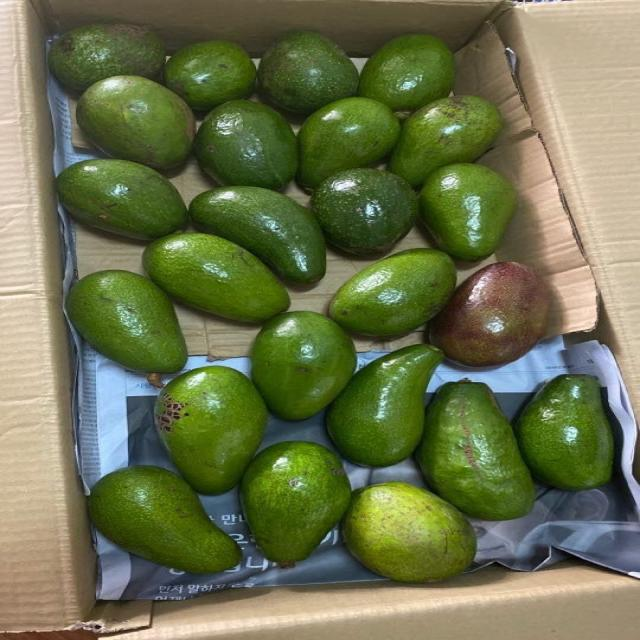avocado: (416, 380, 535, 520), (88, 466, 241, 573), (155, 366, 267, 494), (326, 344, 443, 466), (241, 441, 350, 565), (342, 482, 476, 582), (189, 186, 325, 283), (144, 233, 290, 322), (66, 270, 187, 373), (431, 262, 549, 366), (516, 374, 613, 490), (252, 311, 356, 419), (76, 76, 194, 169), (330, 248, 456, 335), (56, 159, 187, 239), (389, 96, 502, 187), (420, 164, 516, 261), (298, 98, 400, 188), (194, 100, 297, 189), (311, 168, 418, 253), (258, 32, 359, 113), (358, 34, 455, 117), (48, 24, 164, 90), (164, 41, 255, 110)
